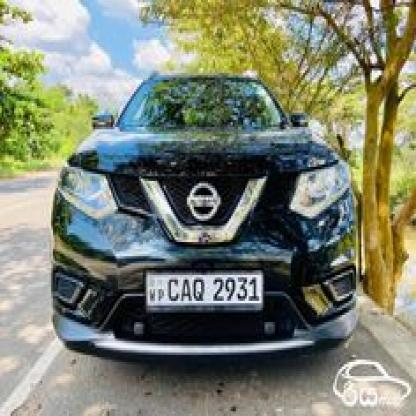car front: (47, 66, 360, 370)
number plate: (145, 271, 260, 305)
